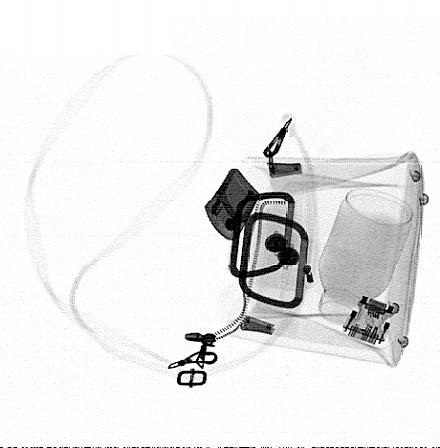Lighter: (204, 169, 261, 242)
